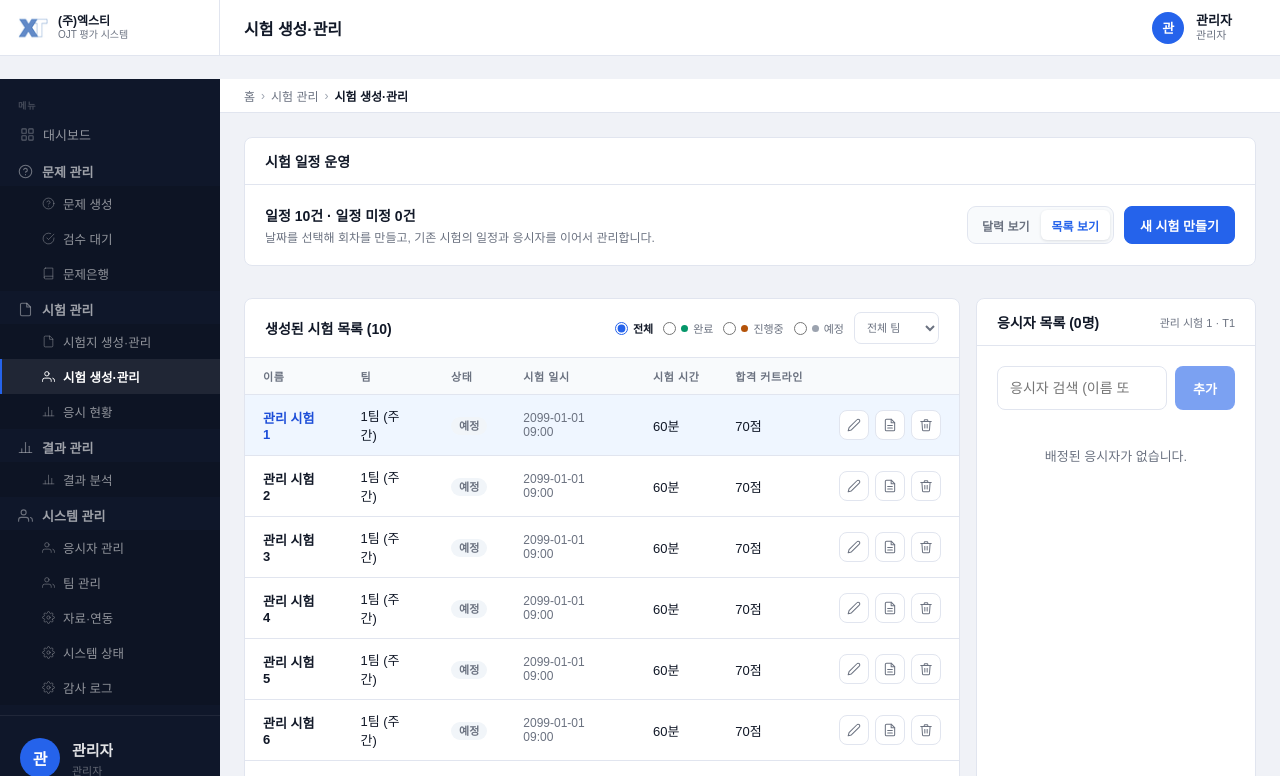
Test case: routed latest-main exam management › keeps same-team keyboard selection usable and shows the real assignment error detail
Focus the field with placeholder "응시자 검색 (이름 또는 사번)" at x=1082, y=388, box [997,366,1167,410]
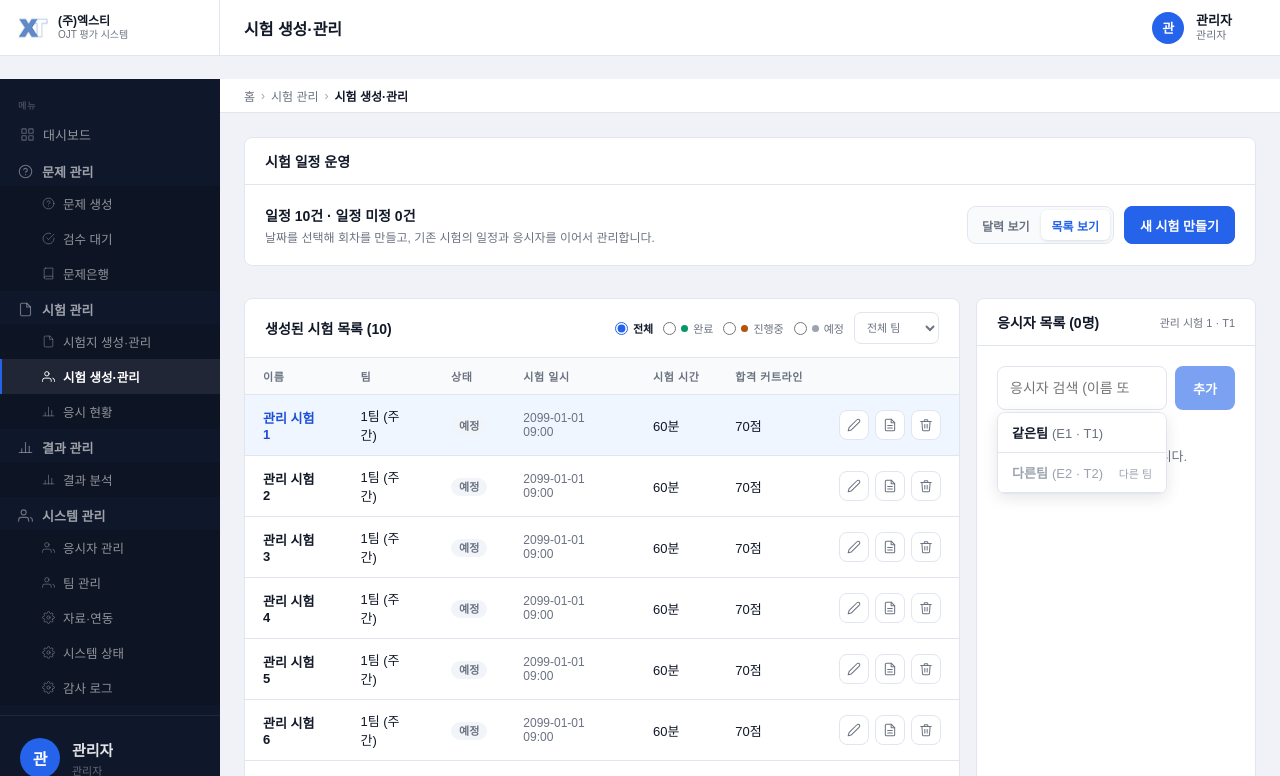
expect the text "같은팀" is shown: met, box [1012,426,1048,441]
Type "같은팀" into the field with placeholder "응시자 검색 (이름 또는 사번)" at x=1082, y=388, box [997,366,1167,410]
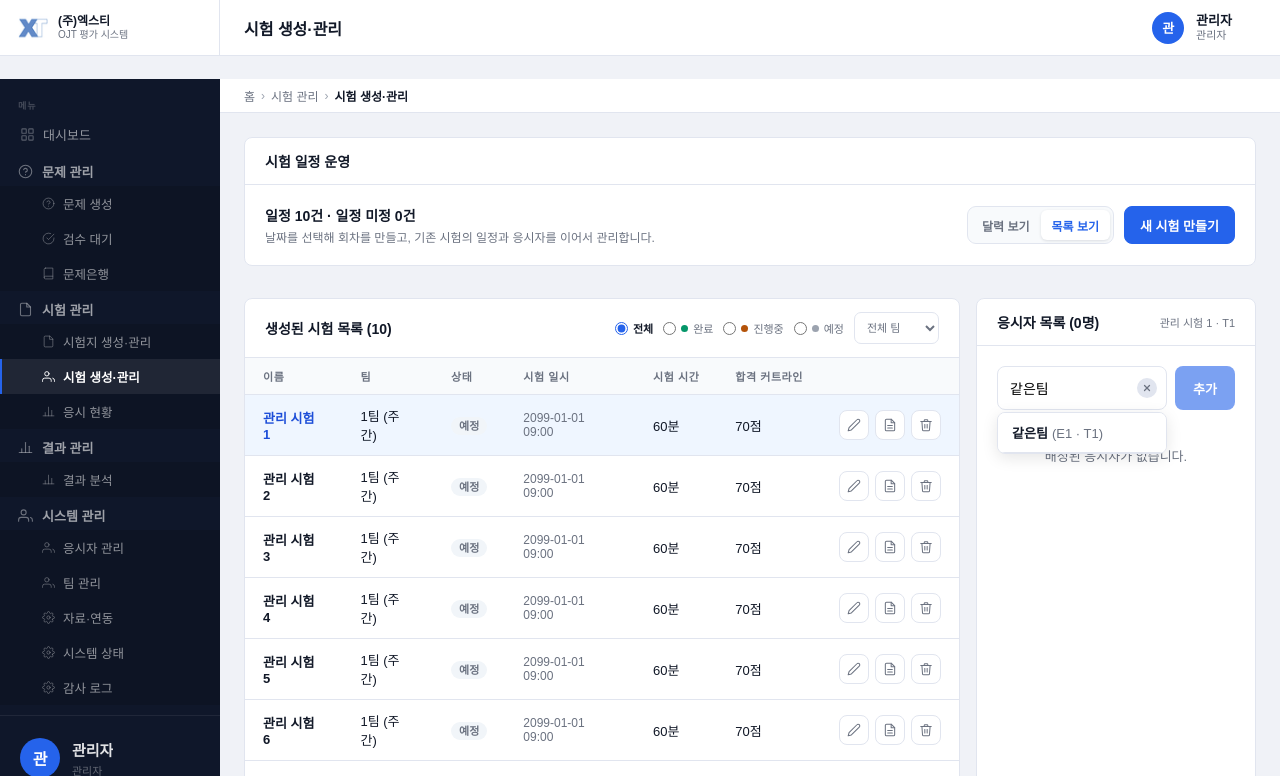
expect the text "같은팀" is shown: met, box [1012,426,1048,441]
Press ArrowDown in the field with placeholder "응시자 검색 (이름 또는 사번)", box [997,366,1167,410]
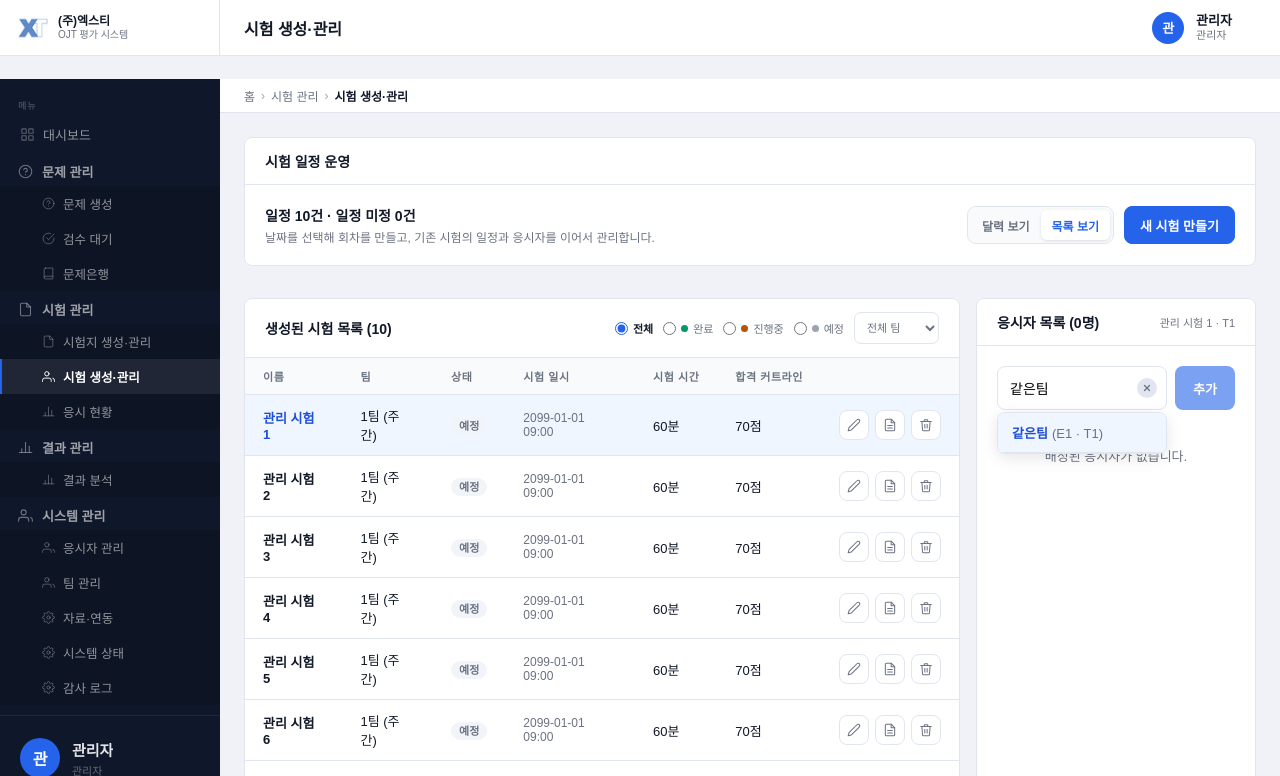
Press Enter in the field with placeholder "응시자 검색 (이름 또는 사번)", box [997,366,1167,410]
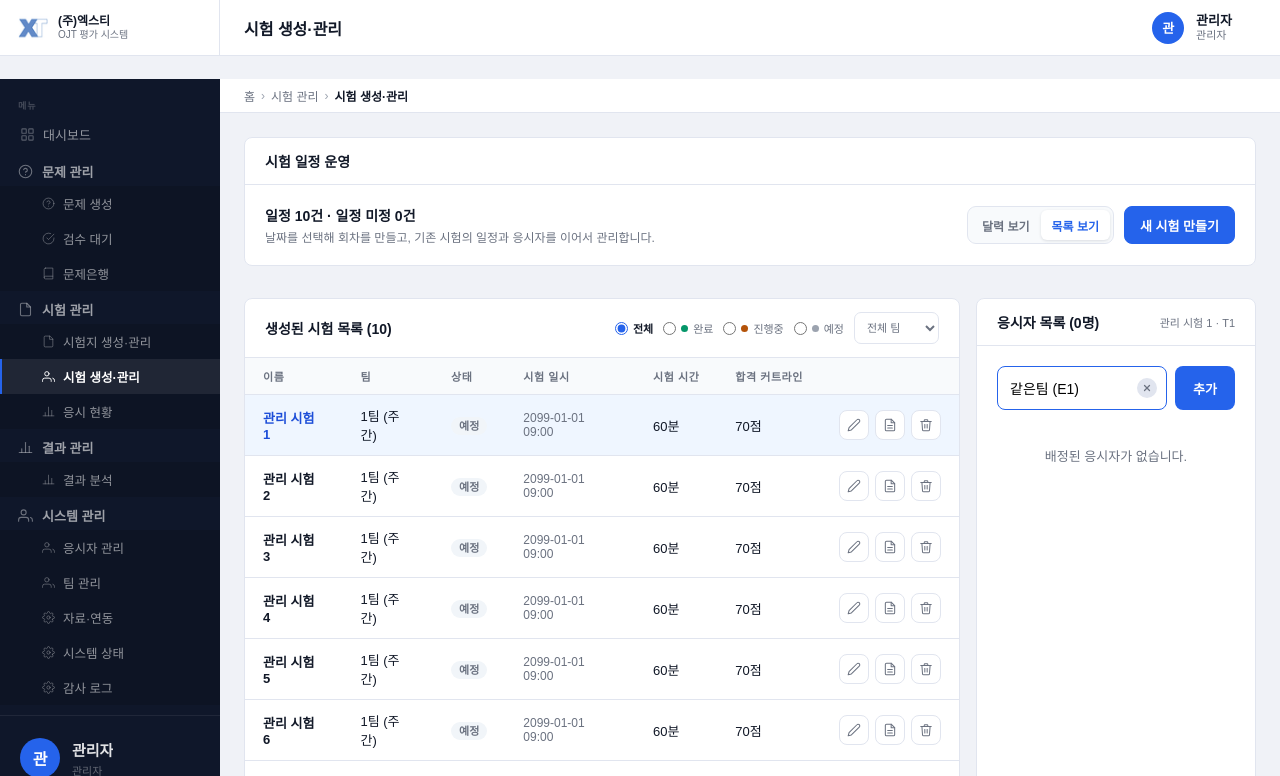
expect the button "추가" is enabled: met
Click the button "추가" at x=1205, y=388, box [1175,366,1235,410]
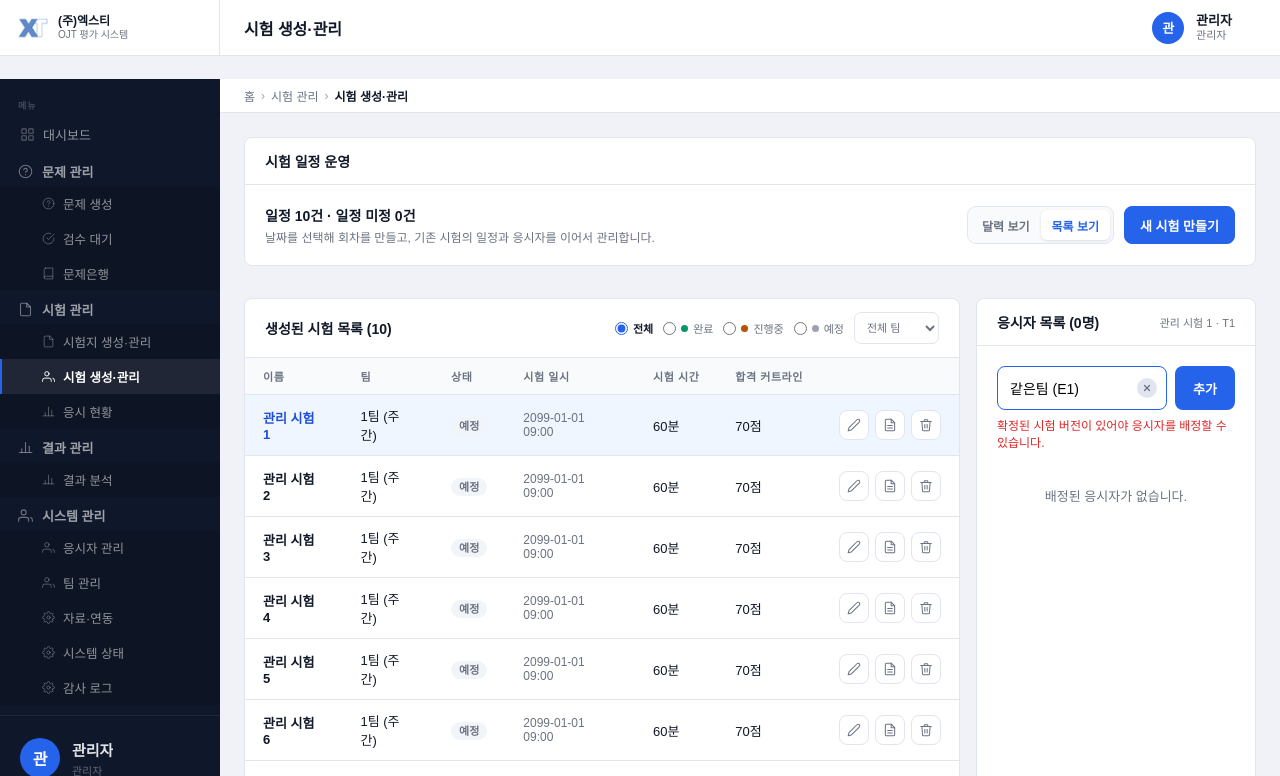
expect the button "추가" is enabled: met, box [1175,366,1235,410]
expect the text "확정된 시험 버전이 있어야 응시자를 배정할 수 있습니다." is shown: met, box [997,416,1235,450]
